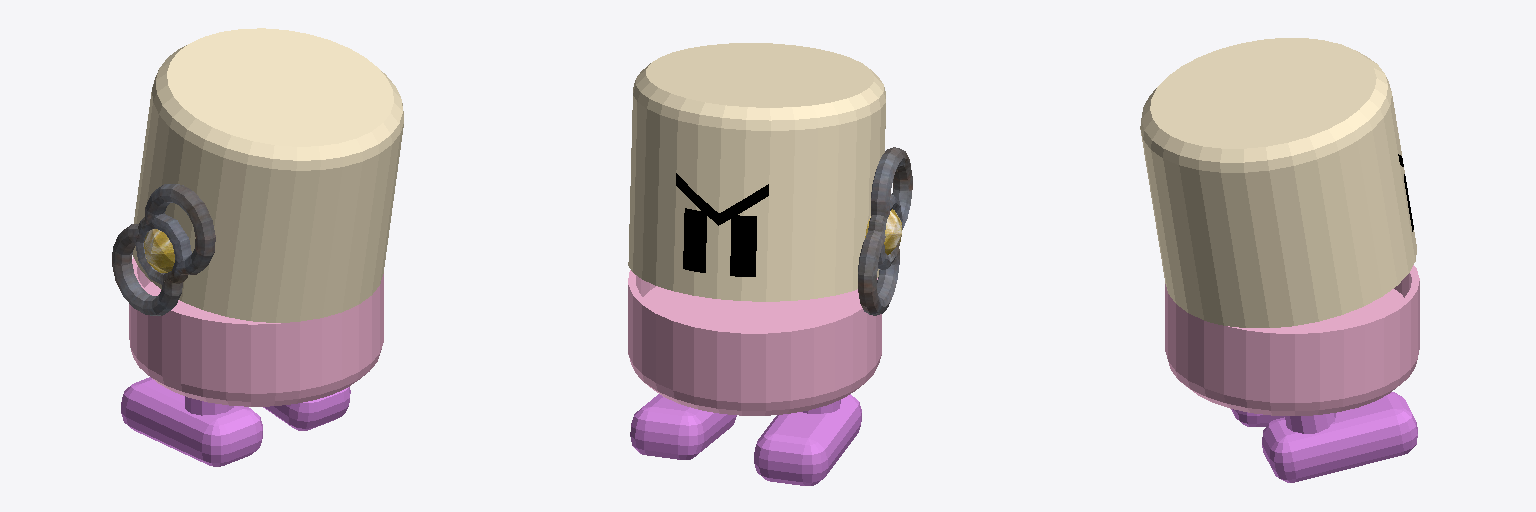
3 renders of one model, left to right at view 1: azimuth 30°, elevation 25°; view 2: azimuth 150°, elevation 25°; view 3: azimuth 270°, elevation 25°, orthographic.
Parts seen in each view (by area): view 1: Head, Jaw, WindupKey, LeftLeg, RightLeg; view 2: Head, Jaw, LeftLeg, WindupKey, RightLeg; view 3: Head, Jaw, RightLeg.
Boxes of the visible parts, x1=… form: Head: x1=133, y1=28, x2=403, y2=322; Jaw: x1=129, y1=257, x2=383, y2=406; WindupKey: x1=112, y1=184, x2=215, y2=315; LeftLeg: x1=121, y1=377, x2=262, y2=466; RightLeg: x1=263, y1=387, x2=350, y2=430; Head: x1=628, y1=43, x2=885, y2=301; Jaw: x1=628, y1=270, x2=881, y2=415; LeftLeg: x1=754, y1=394, x2=861, y2=485; WindupKey: x1=858, y1=147, x2=912, y2=315; RightLeg: x1=630, y1=394, x2=736, y2=459; Head: x1=1140, y1=38, x2=1416, y2=327; Jaw: x1=1165, y1=265, x2=1419, y2=415; RightLeg: x1=1262, y1=392, x2=1417, y2=482.
Bounding box in the file's own units: 114 × 161 × 110.
6 materials, 2 textured.